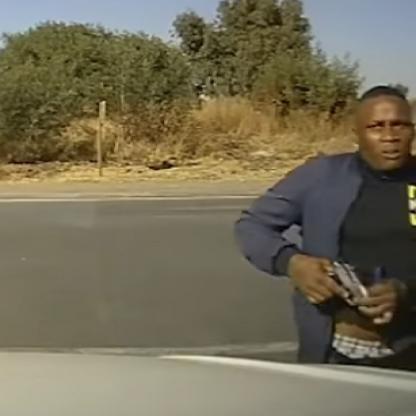criminal: (234, 85, 416, 373)
weapon: (321, 258, 370, 309)
